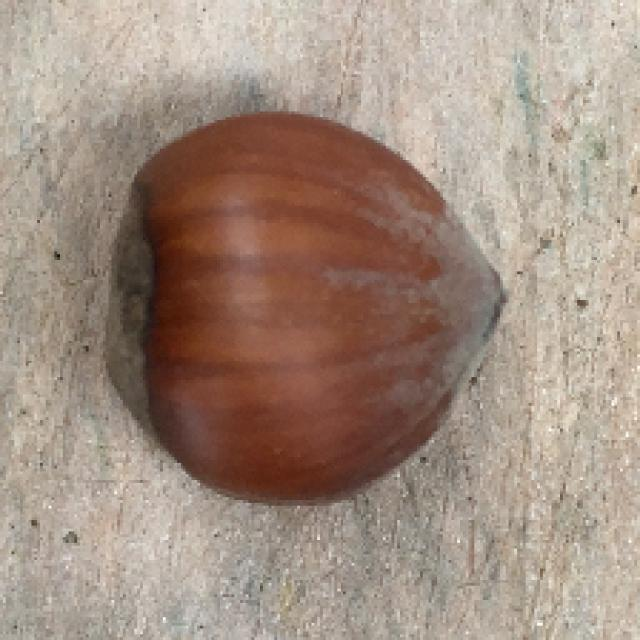qualityHazelnut: (100, 113, 510, 511)
